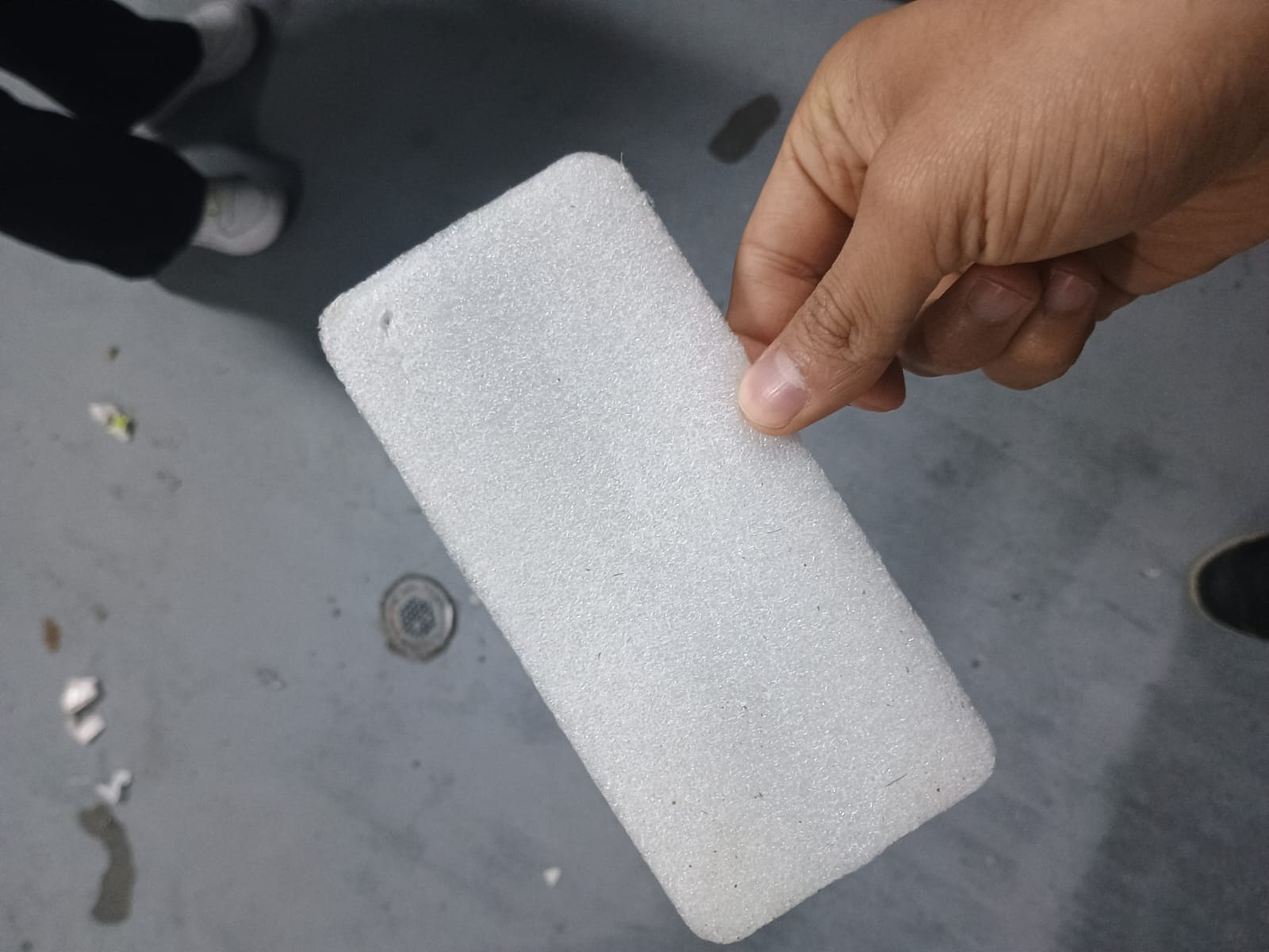Ordinario: (319, 149, 998, 945)
